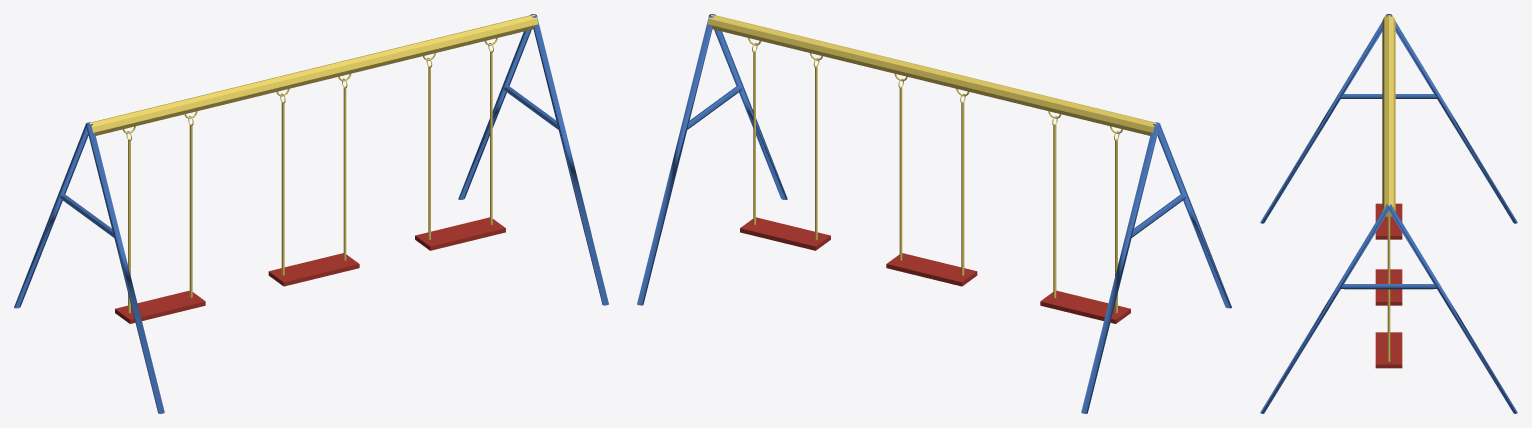
Rendered from play-area2.gltf.
3 renders of one model, left to right at view 1: azimuth 30°, elevation 25°; view 2: azimuth 150°, elevation 25°; view 3: azimuth 270°, elevation 25°, orthographic. The views are drawn at different scales.
Parts seen in each view (by area): view 1: Swings.001; view 2: Swings.001; view 3: Swings.001.
Boxes of the visible parts, <box> form: Swings.001: <box>14,14,608,413</box>; Swings.001: <box>637,14,1231,413</box>; Swings.001: <box>1260,14,1517,413</box>.
Size of the model in its own units: 34.87 by 17.49 by 19.68.
